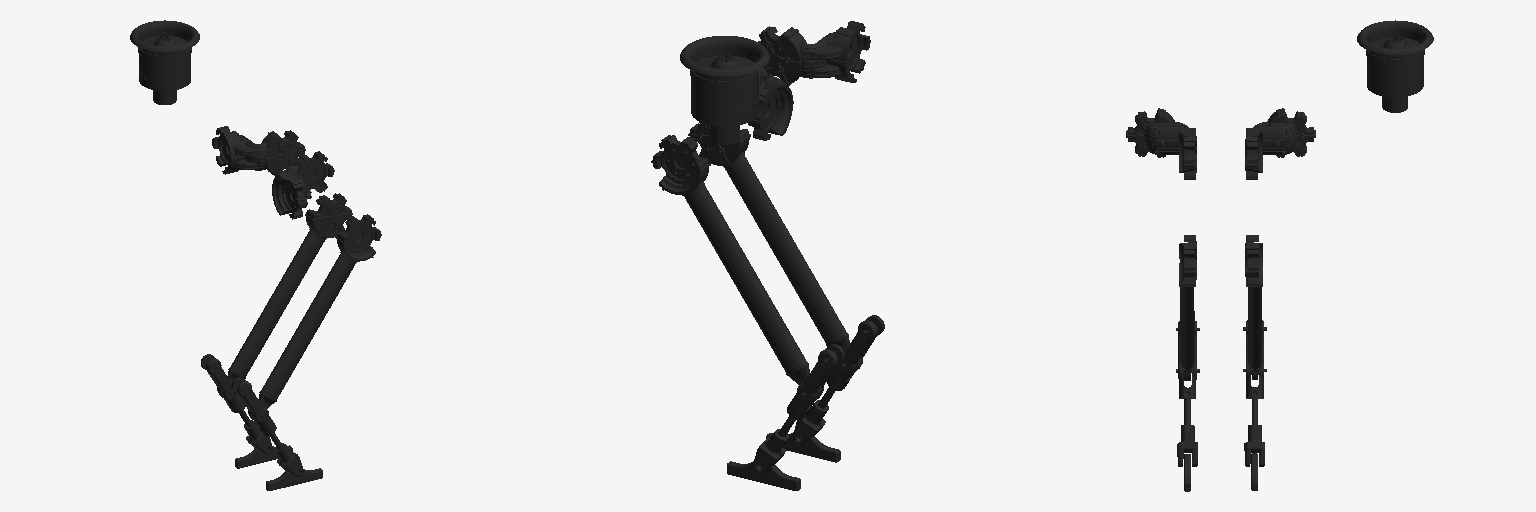
The robot description file, URDF, robot "harpy_model":
<?xml version="1.0"?>

<!-- units are in SI -->
<robot name="harpy_model">

    <!-- *************************** MATERIALS *************************** -->
    <material name="black">
        <color rgba="0.2 0.2 0.2 1"/>
    </material>
    
    <!-- *************************** LINKS *************************** -->
    <!--Base link-->
    <link name="BaseLink"/>

    <!-- Torso -->
    <link name="Torso">
        <inertial>
            <origin rpy="0 0 0" xyz="0.08081922 0.00039877 -0.01702118"/>
            <mass value="3.2677"/>
            <inertia ixx="0.05031174" ixy="0.00048513" ixz="-0.00001617" 
                     iyy="0.02068285" iyz="-0.00006038" izz="0.05619613"/>   
        </inertial>
        <visual>
            <geometry>
                <mesh filename="../meshes_/Torso.obj"/>
            </geometry>
            <material name="black"/>
        </visual>
        <collision>
            <geometry>
                <mesh filename="../meshes_/Torso.obj"/>
            </geometry>
        </collision>
    </link>

    <!-- FrontalHip -->
    <link name="FrontalHipRight">
        <inertial>
            <origin rpy="-1.57 0 0" xyz="0 -0.03048 0.02167"/>
            <mass value="0.16423"/>
            <inertia ixx="0.0002216588" ixy="-1.3E-10" ixz="-1.8E-10" iyy="0.0001625677" iyz="-0.0000760325" izz="0.0001434828"/>   
        </inertial>
        <visual>
            <geometry>
                <mesh filename="../meshes_/HipCouplingRight.obj"/>
            </geometry>
            <material name="black"/>
        </visual>
        <collision>
            <geometry>
                <mesh filename="../meshes_/HipCouplingRight.obj"/>
            </geometry>
        </collision>
    </link>
    <link name="FrontalHipLeft">
        <inertial>
            <origin rpy="1.57 0 0" xyz="0.0 0.03048 0.02167"/>
            <mass value="0.16423"/>
            <inertia ixx="0.0002216588" ixy="-1.3E-10" ixz="-1.8E-10" iyy="0.0001625677" iyz="0.0000760325" izz="0.0001434828"/>   
        </inertial>
        <visual>
            <geometry>
                <mesh filename="../meshes_/HipCouplingLeft.obj"/>
            </geometry>
            <material name="black"/>
        </visual>
        <collision>
            <geometry>
                <mesh filename="../meshes_/HipCouplingLeft.obj"/>
            </geometry>
        </collision>
    </link>

    <!-- Hip -->
    <link name="SagittalHipRight">
        <inertial>
            <origin rpy="0 0 -1.2" xyz="-0.04421902 -0.06615100 0.02343725"/>
            <mass value="0.62604160"/>
            <inertia ixx="0.00276505" ixy="0.00153900" ixz="-0.00000512" iyy="0.00149602" iyz="-0.00000768" izz="0.00359441"/>   
        </inertial>
        <visual>
            <geometry>
                <mesh filename="../meshes_/HipRight.obj"/>
            </geometry>
            <material name="black"/>
        </visual>
        <collision>
            <geometry>
                <mesh filename="../meshes_/HipRight.obj"/>
            </geometry>
        </collision>
    </link>
    <link name="SagittalHipLeft">
        <inertial>
            <origin rpy="0 0 -1.2" xyz="0.04586521 0.06502045 -0.02343725"/>
            <mass value="0.62604160"/>
            <inertia ixx="0.0026909813" ixy="0.00156749" ixz="-0.00000533" iyy="0.00157009" iyz="-0.00000753" izz="0.00359441"/>   
        </inertial>
        <visual>
            <geometry>
                <mesh filename="../meshes_/HipLeft.obj"/>
            </geometry>
            <material name="black"/>
        </visual>
        <collision>
            <geometry>
                <mesh filename="../meshes_/HipLeft.obj"/>
            </geometry>
        </collision>
    </link>

    <!-- Knee -->
    <link name="KneeRight">
        <inertial>
            <origin rpy="0 0 -1.35" xyz="-0.097517 0.06879 0.006394"/>
            <mass value="0.13046943"/>
            <inertia ixx="0.00079103" ixy="-0.00084157" ixz="-0.00002123" iyy="0.00095844" iyz="-0.00001923" izz="0.00173789"/>   
        </inertial>
        <visual>
            <geometry>
                <mesh filename="../meshes_/KneeRight.obj"/>
            </geometry>
            <material name="black"/>
        </visual>
        <collision>
            <geometry>
                <mesh filename="../meshes_/KneeRight.obj"/>
            </geometry>
        </collision>
    </link>
    <link name="KneeLeft">
        <inertial>
            <origin rpy="0 0 0.2" xyz="0.06879 0.097517 -0.006394"/>
            <mass value="0.13046943"/>
            <inertia ixx="0.00079103" ixy="-0.00084157" ixz="-0.00002123" iyy="0.00095844" iyz="-0.00001923" izz="0.00173789"/>   
        </inertial>
        <visual>
            <geometry>
                <mesh filename="../meshes_/KneeLeft.obj"/>
            </geometry>
            <material name="black"/>
        </visual>
        <collision>
            <geometry>
                <mesh filename="../meshes_/KneeLeft.obj"/>
            </geometry>
        </collision>
    </link>

    <!-- Ankle -->
    <link name="AnkleRight">
        <inertial>
            <origin rpy="0 0 1.04" xyz="-0.02193081 -0.01265732 -0.00002585"/>
            <mass value="0.07857811"/>
            <inertia ixx="0.00009120" ixy="0.00014304" ixz="-0.00000008" iyy="0.00025640" iyz="-0.00000010" izz="0.00033557"/>   
        </inertial>
        <visual>
            <geometry>
                <mesh filename="../meshes_/AnkleRight.obj"/>
            </geometry>
            <material name="black"/>
        </visual>
        <collision>
            <geometry>
                <mesh filename="../meshes_/AnkleRight.obj"/>
            </geometry>
        </collision>
    </link>
    <link name="AnkleLeft">
        <inertial>
            <origin rpy="0 0 2.094" xyz="0.01265732 0.02193081 0.00002585"/>
            <mass value="0.07857811"/>
            <inertia ixx="0.00025640" ixy="0.00014304" ixz="-0.00000010" iyy="0.00009120" iyz="-0.00000008" izz="0.00033557"/>   
        </inertial>
        <visual>
            <geometry>
                <mesh filename="../meshes_/AnkleLeft.obj"/>
            </geometry>
            <material name="black"/>
        </visual>
        <collision>
            <geometry>
                <mesh filename="../meshes_/AnkleLeft.obj"/>
            </geometry>
        </collision>
    </link>

    <!-- Foot -->
    <link name="FootRight">
        <inertial>
            <origin rpy="0 0 0" xyz="0.0 -0.01428958 0.0"/>
            <mass value="0.02387642"/>
            <inertia ixx="0.00000158" ixy="0.0" ixz="0.0" iyy="0.00001558" iyz="0.0" izz="0.00001677"/>   
        </inertial>
        <visual>
            <geometry>
                <mesh filename="../meshes_/Foot.obj"/>
            </geometry>
            <material name="black"/>
        </visual>
        <collision>
            <geometry>
                <mesh filename="../meshes_/Foot.obj"/>
            </geometry>
        </collision>
    </link>
    <link name="FootLeft">
        <inertial>
            <origin rpy="0 0 0" xyz="0.0 -0.01428958 0.0"/>
            <mass value="0.02387642"/>
            <inertia ixx="0.00000158" ixy="0.0" ixz="0.0" iyy="0.00001558" iyz="0.0" izz="0.00001677"/>   
        </inertial>
        <visual>
            <geometry>
                <mesh filename="../meshes_/Foot.obj"/>
            </geometry>
            <material name="black"/>
        </visual>
        <collision>
            <geometry>
                <mesh filename="../meshes_/Foot.obj"/>
            </geometry>
        </collision>
    </link>

    <!-- Thruster -->
    <link name="ThrusterRight">
        <inertial>
            <origin rpy="0 0 0" xyz="0.0 0.0 -0.00964905"/>
            <mass value="0.12"/>
            <inertia ixx="0.00011044" ixy="0.0" ixz="0.0" iyy="0.00011045" iyz="0.0" izz="0.00009201"/>   
        </inertial>
        <visual>
            <geometry>
                <mesh filename="../meshes_/ThrusterRight.obj"/>
            </geometry>
            <material name="black"/>
        </visual>
        <collision>
            <geometry>
                <mesh filename="../meshes_/ThrusterRight.obj"/>
            </geometry>
        </collision>
    </link>    
    <link name="ThrusterLeft">
        <inertial>
            <origin rpy="0 0 0" xyz="0.0 0.0 -0.00964905"/>
            <mass value="0.12"/>
            <inertia ixx="0.00011044" ixy="0.0" ixz="0.0" iyy="0.00011045" iyz="0.0" izz="0.00009201"/>   
        </inertial>
        <visual>
            <geometry>
                <mesh filename="../meshes_/ThrusterLeft.obj"/>
            </geometry>
            <material name="black"/>
        </visual>
        <collision>
            <geometry>
                <mesh filename="../meshes_/ThrusterLeft.obj"/>
            </geometry>
        </collision>
    </link>  

    <!--Shockabsorber link-->
    <link name="SARight"/>
    <link name="FSARight"/>
    
    <!--FootSA Link-->
    <link name="SALeft"/>
    <link name="FSALeft"/>

    <!-- *************************** JOINTS *************************** -->
    <!-- Base frame to torso -->
    <joint name="Basejoint" type="fixed">
        <parent link="BaseLink"/>
        <child link="Torso"/>
        <origin xyz="0.0 0.0 0.0" rpy="0.0 -1.5708 3.1416"/>
    </joint>

    <!-- Upperbody to frontal -->
    <joint name="FrontalRightJoint" type="continuous">
        <parent link="Torso"/>
        <child link="FrontalHipRight"/>
        <axis xyz="0 0 1"/>
        <origin xyz="0.0 0.1 0.03140" rpy="0.0 0.0 0.0"/>
    </joint>
    <joint name="FrontalLeftJoint" type="continuous">
        <parent link="Torso"/>
        <child link="FrontalHipLeft"/>
        <axis xyz="0 0 1"/>
        <origin xyz="0.0 -0.1 0.03140" rpy="0.0 0.0 0.0"/>
    </joint>

    <!-- Frontal to Sagittal -->
    <joint name="SagittalRightJoint" type="continuous">
        <parent link="FrontalHipRight"/>
        <child link="SagittalHipRight"/>
        <axis xyz="0 0 1"/>
        <origin xyz="0.0 0.0 0.06405" rpy="1.57 1.57 0.0"/>
    </joint>

    <joint name="SagittalLeftJoint" type="continuous">
        <parent link="FrontalHipLeft"/>
        <child link="SagittalHipLeft"/>
        <axis xyz="0 0 1"/>
        <origin xyz="0.0 0.0 0.06405" rpy="1.57 -1.57 0"/>
    </joint>

    <!--Sagittal to Knee -->
    <joint name="KneeRightJoint" type="continuous">
        <parent link="SagittalHipRight"/>
        <child link="KneeRight"/>
        <axis xyz="0 0 1"/>
        <origin xyz="-0.08531 -0.12761 0.05941" rpy="3.14 0.0 1.57"/>
    </joint>

    <joint name="KneeLeftJoint" type="continuous">
        <parent link="SagittalHipLeft"/>
        <child link="KneeLeft"/>
        <axis xyz="0 0 1"/>
        <origin xyz="0.08531 0.12761 -0.05941  " rpy="3.14 0.0 -3.14"/>
    </joint>
  
    <!-- Ankle to foot-->
    <joint name="FootRightJoint" type="continuous">
        <parent link="AnkleRight"/>
        <child link="FootRight"/>
        <axis xyz="0 0 1"/>
        <origin xyz="-0.11258 -0.065  0.0 " rpy="0.0 0.0 -1.57"/>
    </joint>

    <joint name="FootLeftJoint" type="continuous">
        <parent link="AnkleLeft"/>
        <child link="FootLeft"/>
        <axis xyz="0 0 1"/>
        <origin xyz="0.065 0.11258 0.0"  rpy="0.0 0.0 3.14"/>
    </joint>

    <!-- Knee to Ankle-->
    <joint name="AnkleRightJoint" type="continuous">
        <parent link="KneeRight"/>
        <child link="AnkleRight"/>
        <axis xyz="0 0 1"/>
        <origin xyz="-0.26067 0.18387 0.00787 " rpy="0.0 0.0 0.0"/>
    </joint>
    <joint name="AnkleLeftJoint" type="continuous">
        <parent link="KneeLeft"/>
        <child link="AnkleLeft"/>
        <axis xyz="0 0 1"/>
        <origin xyz="0.18387 0.26067  -0.00787"  rpy="3.14 0.0 -3.14"/>
    </joint>

    <!-- Torso to thrusters-->
    <joint name="ThrusterRightJoint" type="continuous">
        <parent link="Torso"/>
        <child link="ThrusterRight"/>
        <axis xyz="0 1 0"/>
        <origin xyz="0.101 0.25 0.0 " rpy="0.0 1.57 0.0"/>
    </joint>
    <joint name="ThrusterLeftJoint" type="continuous">
        <parent link="Torso"/>
        <child link="ThrusterLeft"/>
        <axis xyz="0 1 0"/>
        <origin xyz="0.101 -0.25 0.0"  rpy="0.0 1.57 0.0"/>
    </joint>

    <!-- Hip to SA (Right)-->
    <joint name="SARightJoint" type="fixed">
        <parent link="SagittalHipRight"/>
        <child link="SARight"/>
        <origin xyz="0.05195 0.077733 0.02801" rpy="0.0 0.0 0.0"/>
    </joint>
    <!--Foot to SA (Right)-->
    <joint name="FSARightJoint" type="fixed">
        <parent link="AnkleRight"/>
        <child link="FSARight"/>
        <origin xyz="0.05196 0.03 0.0" rpy="0.0 0.0 0.0"/>
    </joint>
 
    <!-- Hip to SA (Left)-->
    <joint name="SALeftJoint" type="fixed">
        <parent link="SagittalHipLeft"/>
        <child link="SALeft"/>
        <origin xyz="0.05195 0.07640 0.02801" rpy="0.0 0.0 0.0"/>
    </joint>
    <!--Foot to SA (left)-->
    <joint name="FSALeftJoint" type="fixed">
        <parent link="AnkleLeft"/>
        <child link="FSALeft"/>
        <origin xyz="0.03 0.05196 0.0" rpy="0.0 0.0 0.0"/>
    </joint>

</robot>

--- Render facts (derived) ---
Views: 3 orthographic renders of the robot side by side, from view 1: azimuth 30°, elevation 25°; view 2: azimuth 150°, elevation 25°; view 3: azimuth 270°, elevation 25°.
Model harpy_model with 18 links and 17 joints (12 continuous, 5 fixed), rooted at BaseLink, posed every joint at zero.
Visible links, largest first — view 1: KneeRight, KneeLeft, ThrusterLeft, FrontalHipLeft, FrontalHipRight, AnkleRight, AnkleLeft, FootRight; view 2: KneeLeft, ThrusterLeft, KneeRight, FrontalHipRight, AnkleLeft, AnkleRight, FrontalHipLeft, FootLeft, FootRight; view 3: ThrusterLeft, FrontalHipLeft, FrontalHipRight, KneeRight, KneeLeft, AnkleRight, AnkleLeft.
Boxes of the visible links, box(x1,y1,x2,y2) form: KneeRight: box(249, 214, 381, 421); KneeLeft: box(218, 193, 352, 398); ThrusterLeft: box(130, 20, 199, 104); FrontalHipLeft: box(212, 126, 305, 176); FrontalHipRight: box(272, 151, 334, 219); AnkleRight: box(231, 377, 303, 476); AnkleLeft: box(201, 354, 272, 453); FootRight: box(266, 468, 322, 490); KneeLeft: box(651, 135, 821, 401); ThrusterLeft: box(680, 36, 769, 144); KneeRight: box(688, 122, 861, 372); FrontalHipRight: box(758, 21, 870, 85); AnkleLeft: box(753, 344, 844, 473); AnkleRight: box(793, 315, 884, 444); FrontalHipLeft: box(748, 67, 793, 140); FootLeft: box(727, 461, 800, 490); FootRight: box(766, 432, 840, 462); ThrusterLeft: box(1357, 20, 1433, 112); FrontalHipLeft: box(1245, 108, 1315, 179); FrontalHipRight: box(1126, 108, 1196, 179); KneeRight: box(1179, 235, 1196, 380); KneeLeft: box(1245, 235, 1262, 379); AnkleRight: box(1176, 321, 1199, 466); AnkleLeft: box(1243, 320, 1266, 466).
Bounding box of the posed robot: 0.2717 × 0.441 × 0.6715 m (x, y, z).
Meshes: 12 distinct files referenced, 9 mesh visuals loaded (8 OBJ); not drawn: 4 (reference not matched to a file when rendering).